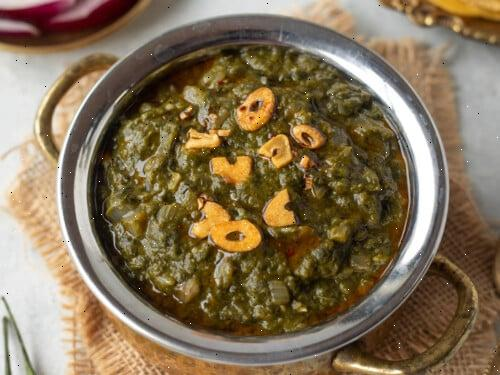saag: (100, 49, 413, 336)
